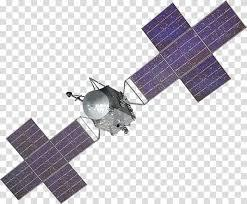antenna: (82, 90, 110, 120), (66, 90, 72, 98)
body: (79, 87, 135, 137)
solar: (127, 0, 246, 103), (3, 118, 94, 203)
